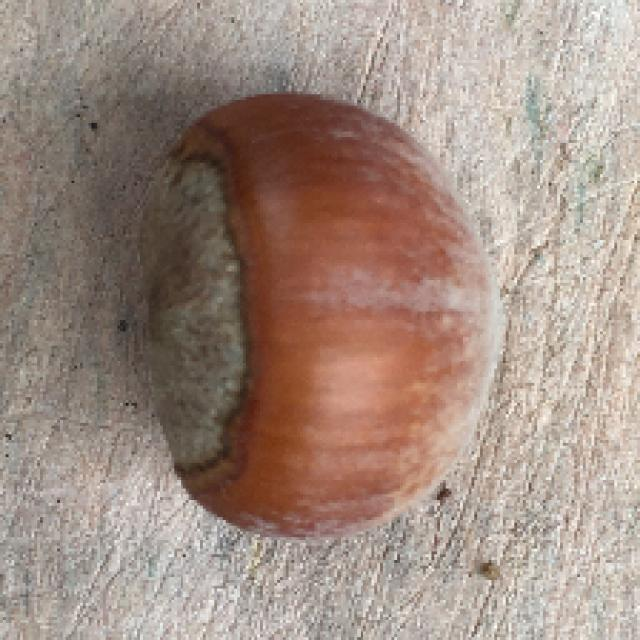qualityHazelnut: (134, 91, 521, 540)
